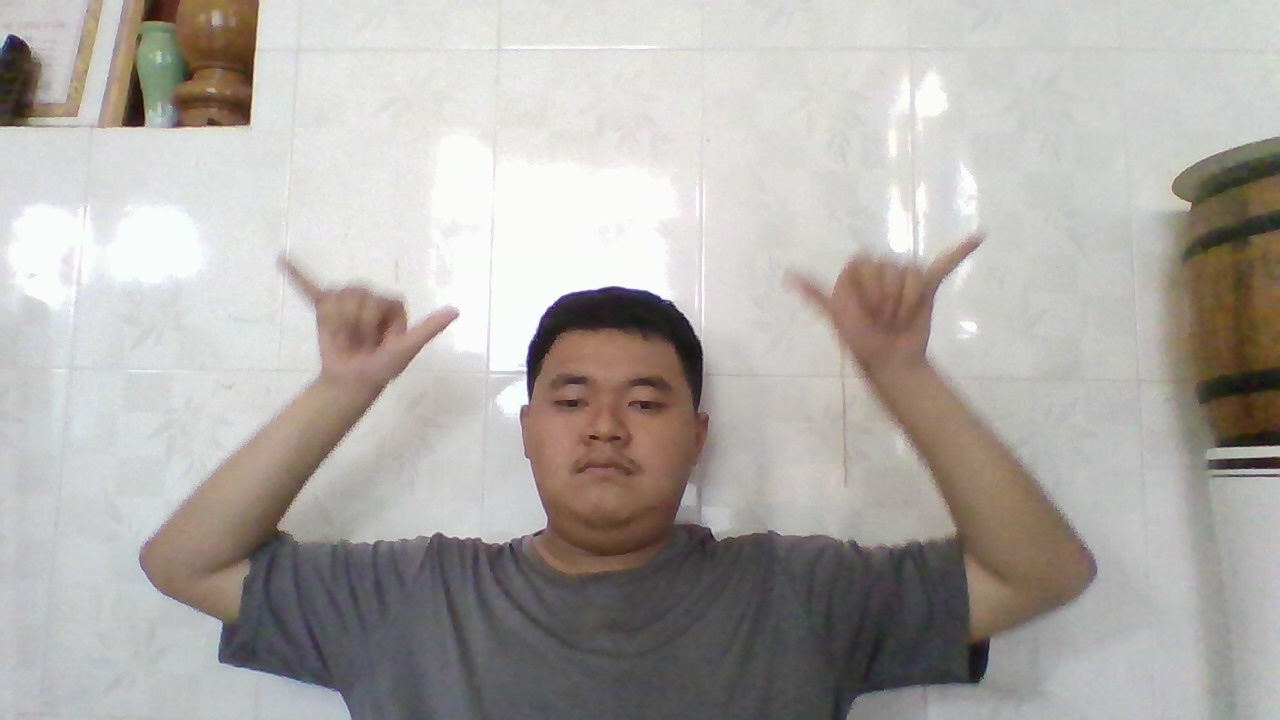Y: (774, 224, 992, 380), (262, 244, 468, 399)
